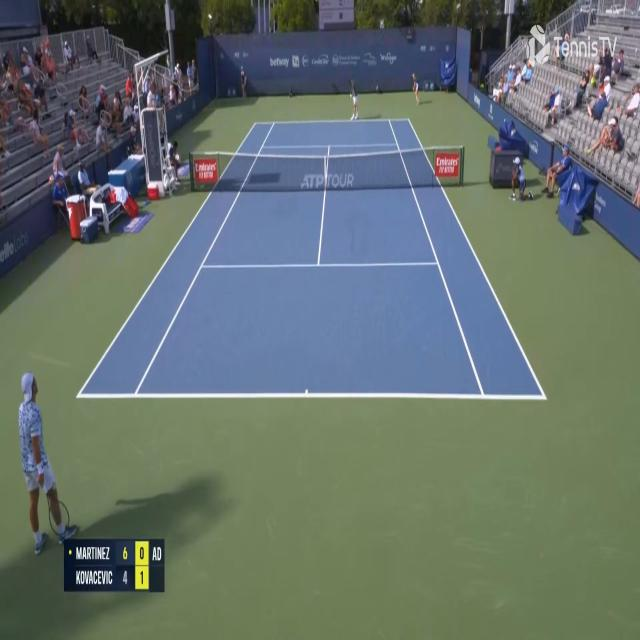tennis-player: (14, 369, 81, 557), (347, 74, 361, 122)
